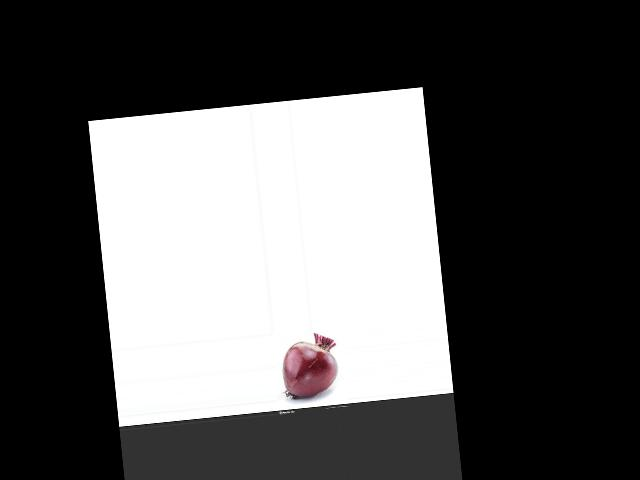beet: (279, 331, 341, 399)
